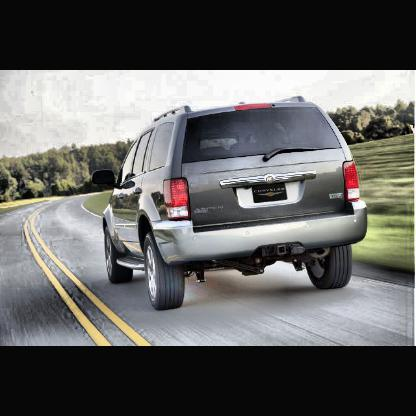Chrysler Aspen SUV 2009: (90, 94, 374, 310)
